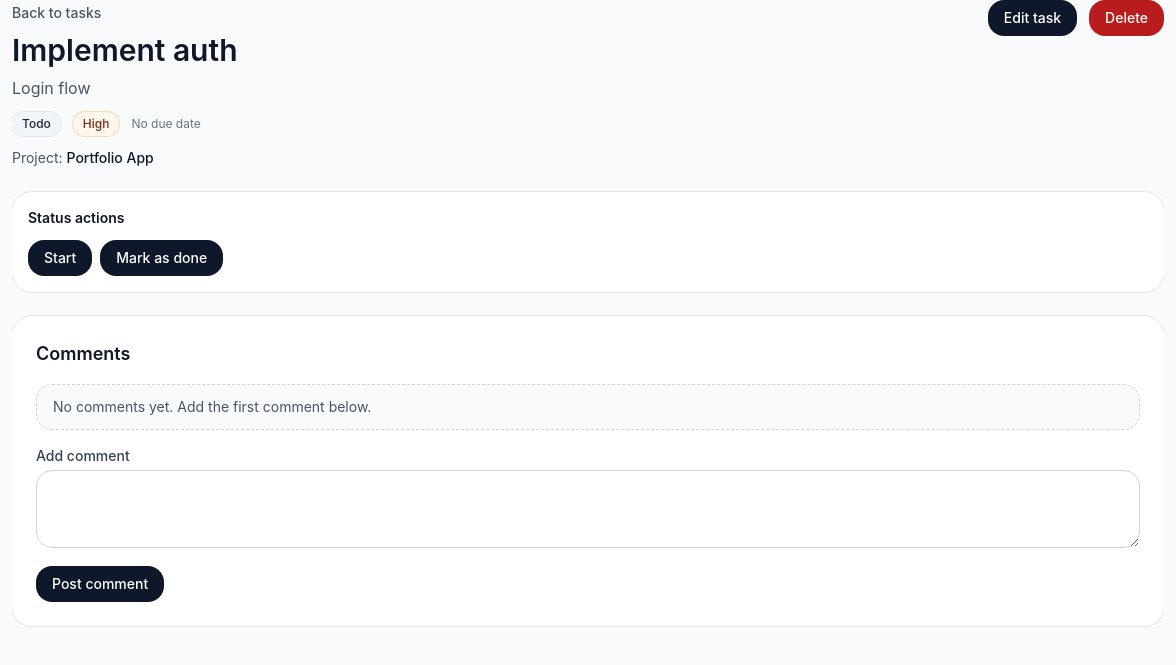
Test: TaskDetailsPanel › updates task details after edit
Click the button "Edit task" at (1032, 18), box 988,0 -> 1077,36
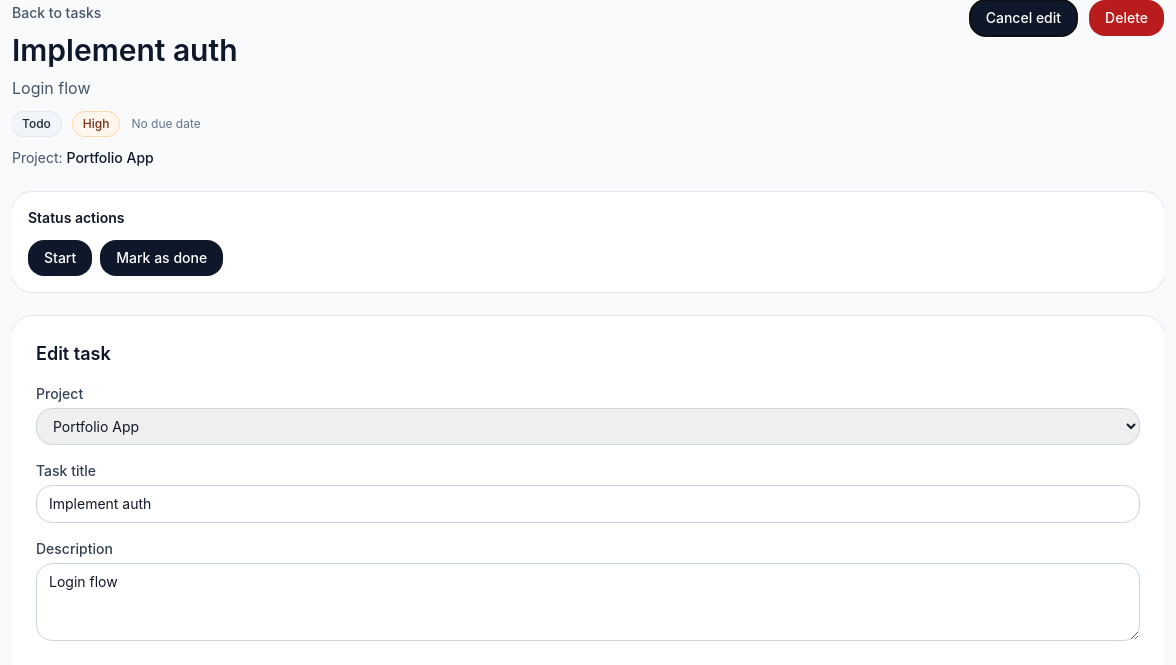
Replace the text in the field labelled "Task title" with "Updated auth task" at (588, 504), box 36,485 -> 1140,523
(page scrolled)
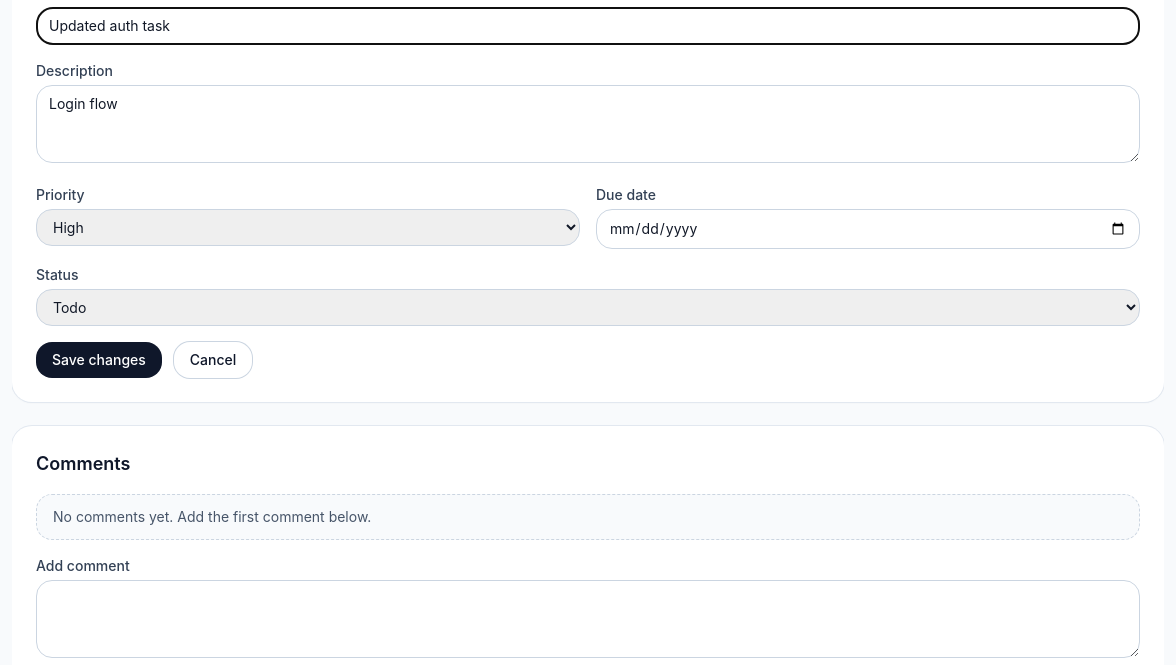
Click the button "Save changes" at (99, 360), box 36,342 -> 162,378
(page scrolled)
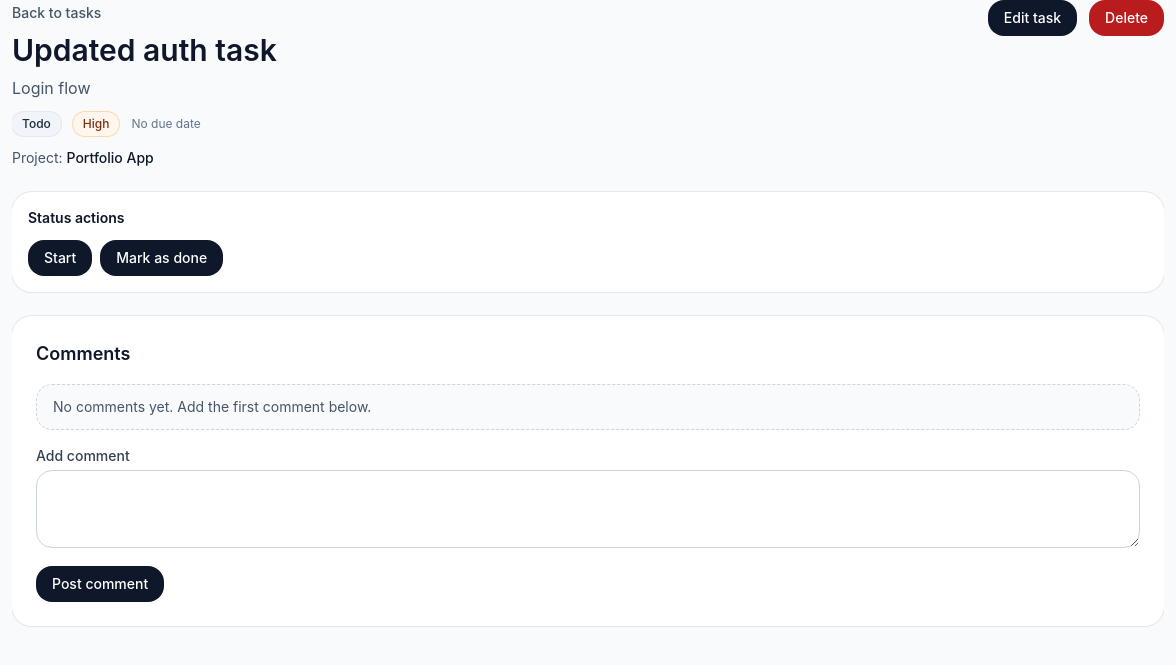
Result: the heading "Updated auth task" is shown at 12,32 -> 277,68
